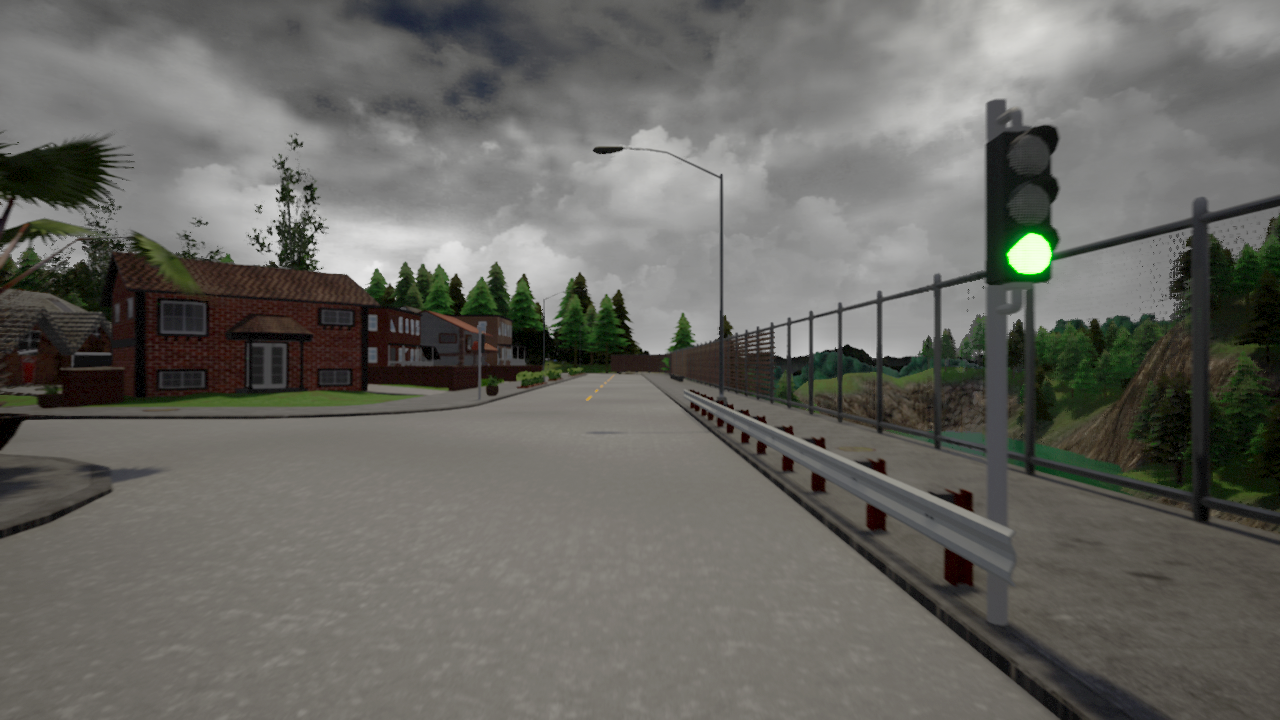green: (982, 122, 1063, 290)
